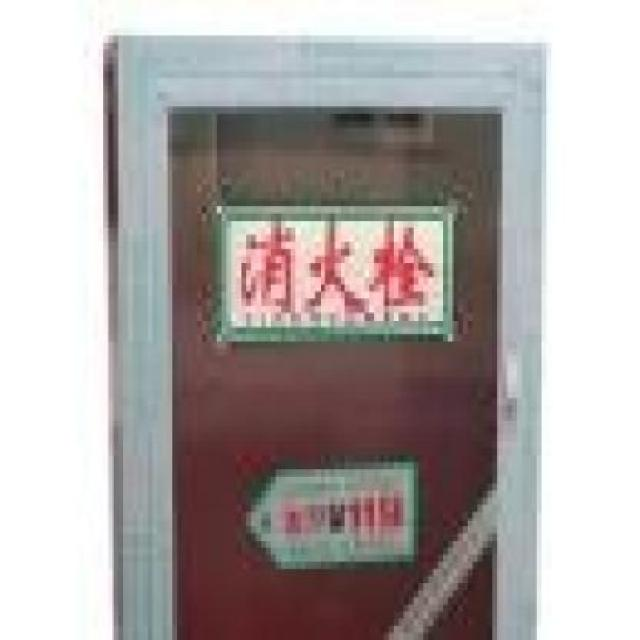firehydrant: (97, 26, 554, 640)
